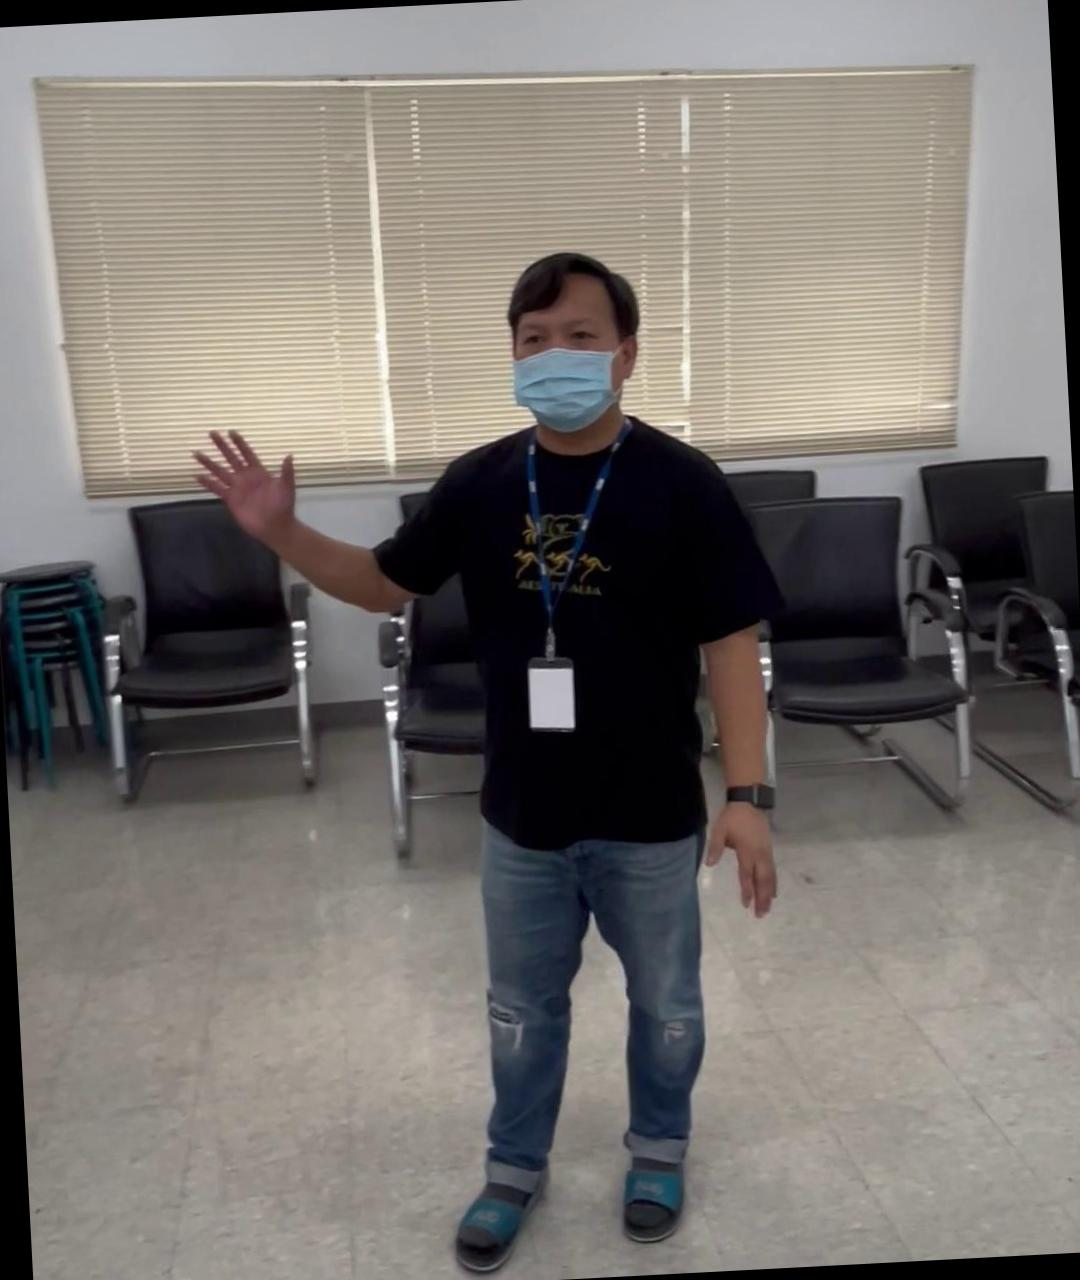No-gloves: (185, 415, 305, 551), (697, 789, 783, 924)
